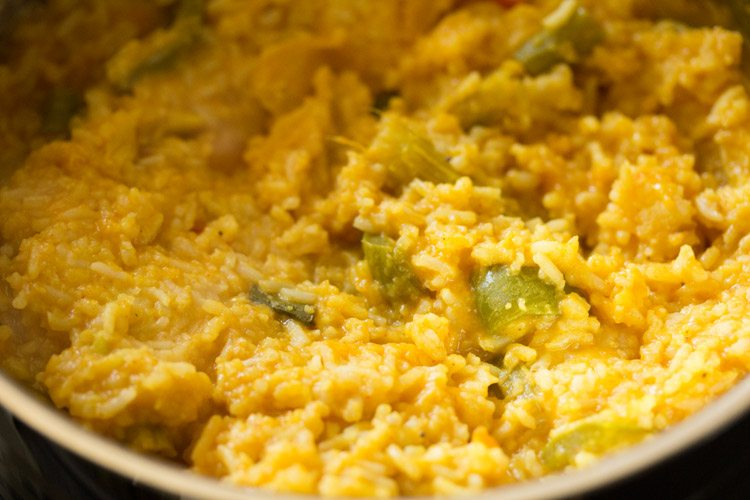rice: (6, 8, 749, 498)
